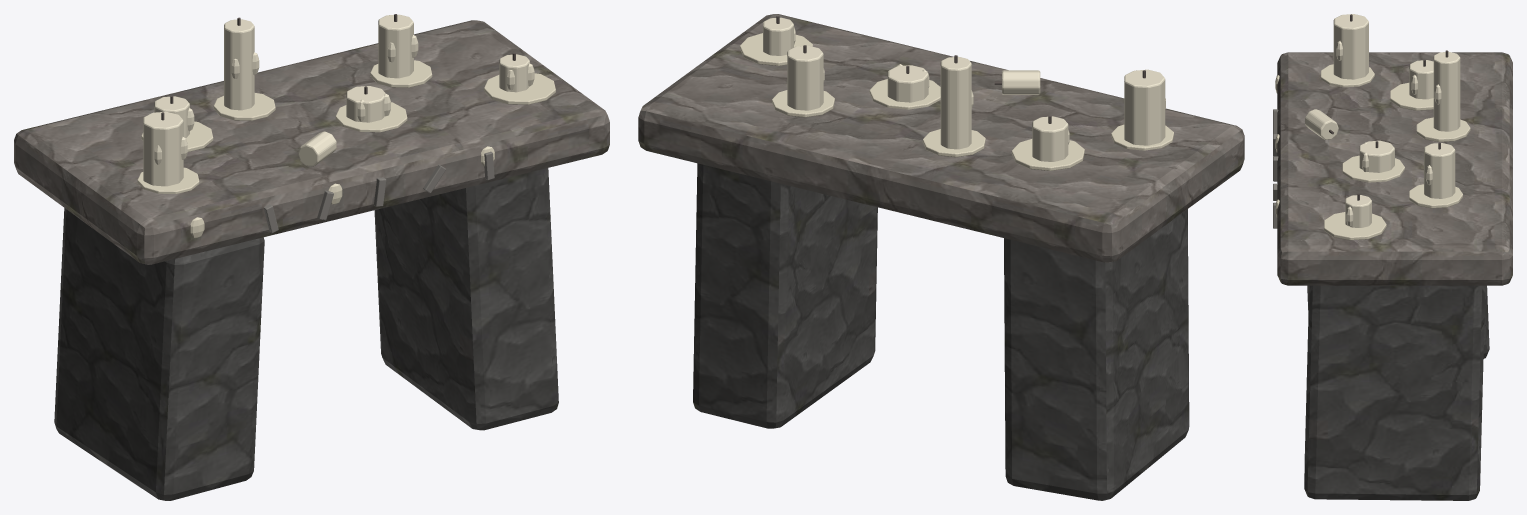
File: altar_candles.glb
3 renders of one model, left to right at view 1: azimuth 30°, elevation 25°; view 2: azimuth 150°, elevation 25°; view 3: azimuth 270°, elevation 25°, orthographic. The views are drawn at different scales.
Visible parts, largest first — view 1: model; view 2: model; view 3: model.
Part boxes in pixels (box(x1,y1,x2,y2)): model: box(14, 14, 609, 500); model: box(638, 14, 1244, 500); model: box(1273, 14, 1512, 500).
Bounding box in the file's own units: 1.3 × 1.05 × 0.652.
Materials: 6 (2 with a texture image).
